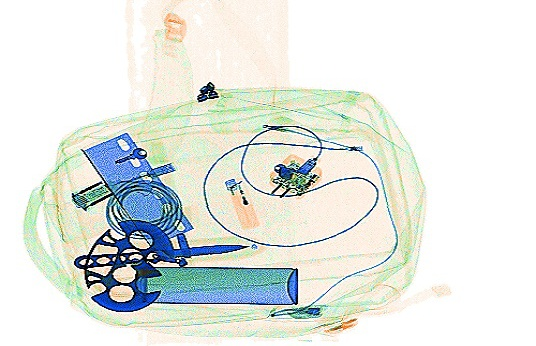knife: (70, 241, 249, 269)
lighter: (221, 173, 261, 232)
pressure: (126, 263, 301, 305)
